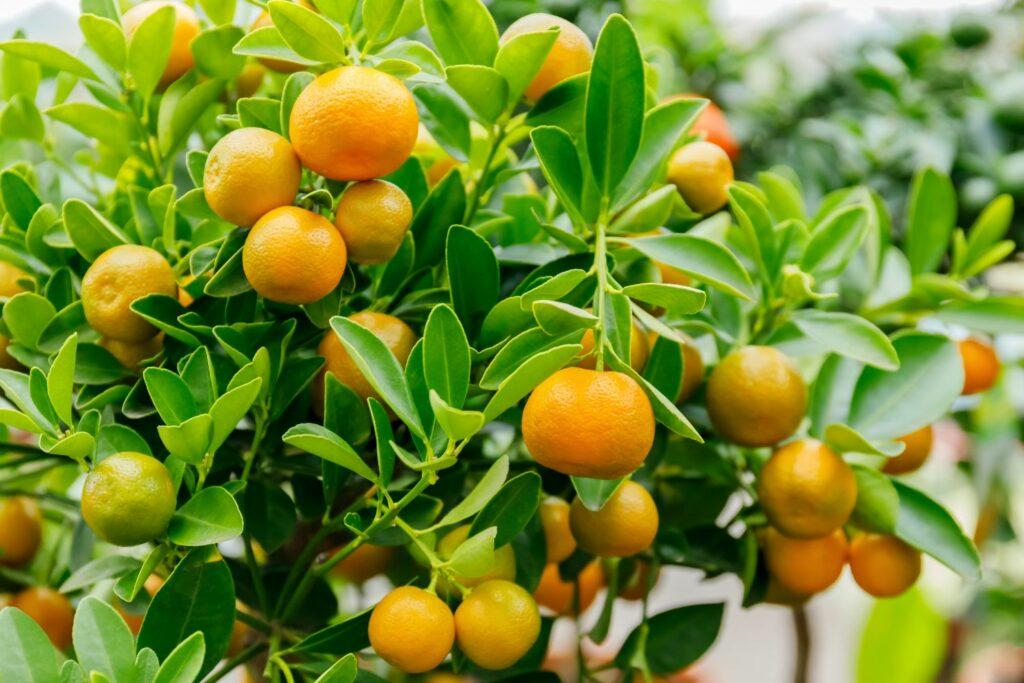Healthy Citrus: (422, 2, 559, 109), (331, 317, 432, 443), (142, 356, 266, 457), (587, 9, 646, 209), (140, 544, 238, 662), (623, 238, 760, 304), (462, 469, 546, 552), (441, 221, 504, 324), (424, 309, 477, 409), (266, 0, 351, 61), (536, 128, 590, 224), (419, 84, 478, 162), (178, 488, 257, 545), (38, 332, 79, 431), (129, 7, 175, 94), (532, 299, 605, 343)
